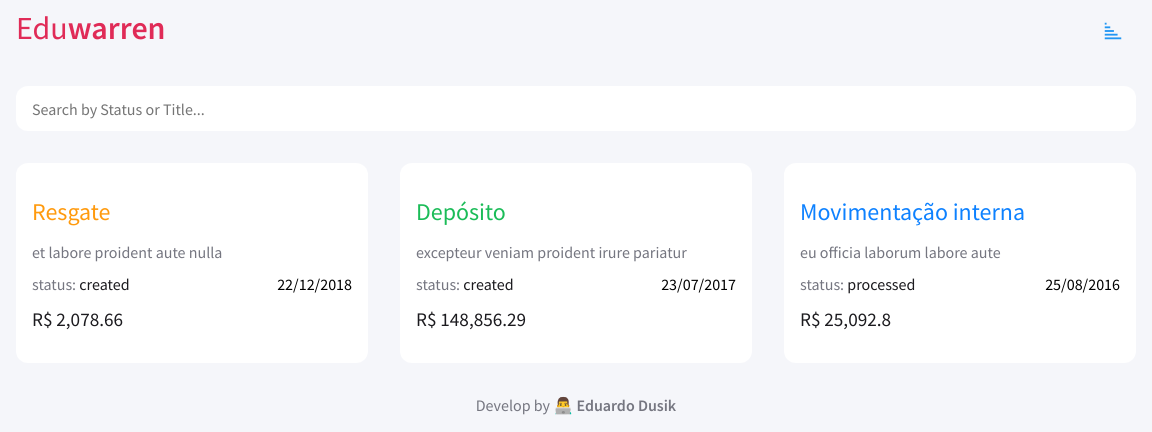
Search - Cypress Integration Test › should search 'null' bring no results
Type "null" into the field with test id "search" at (576,109), box [16,86,1136,131]
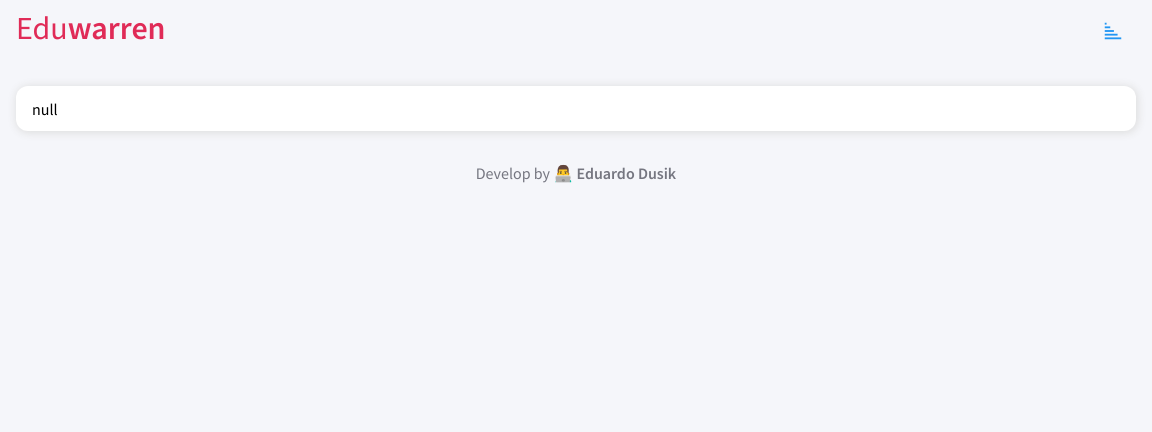
Now no elements with test id "transaction-box" are shown
